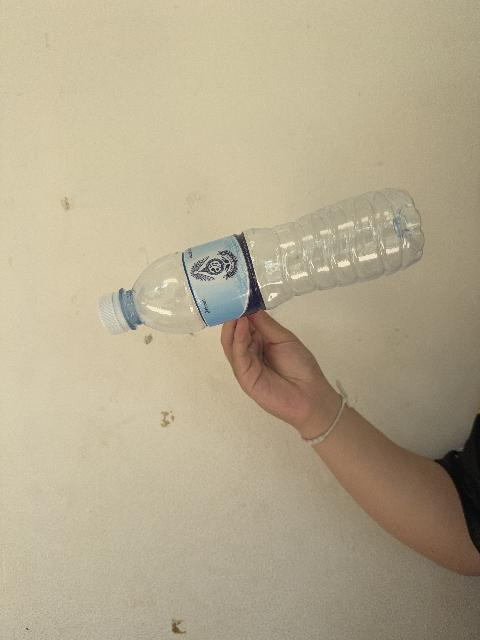bottle: (98, 189, 423, 334)
